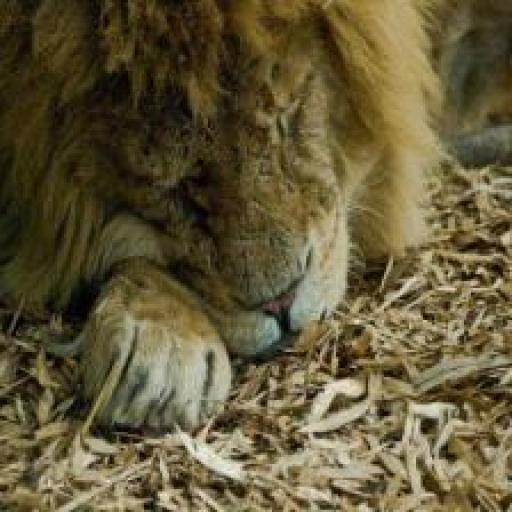lion: (0, 2, 464, 511)
